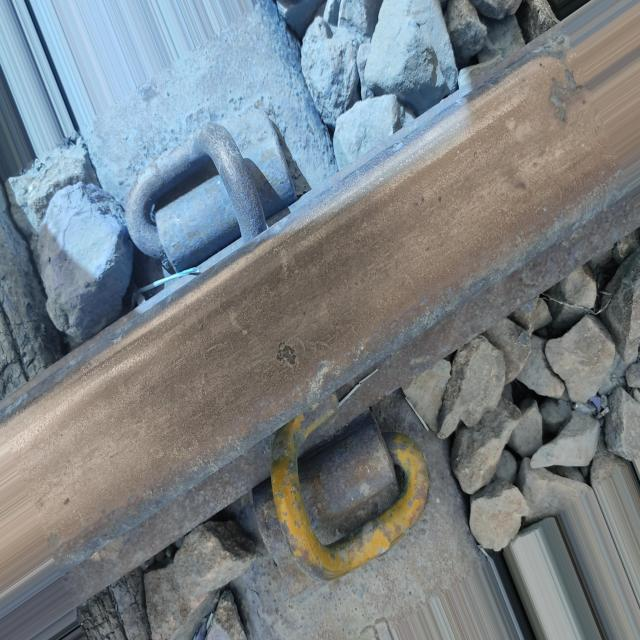broken_rail_medium: (547, 63, 586, 127), (301, 359, 333, 411), (276, 341, 300, 375), (62, 492, 73, 512)
